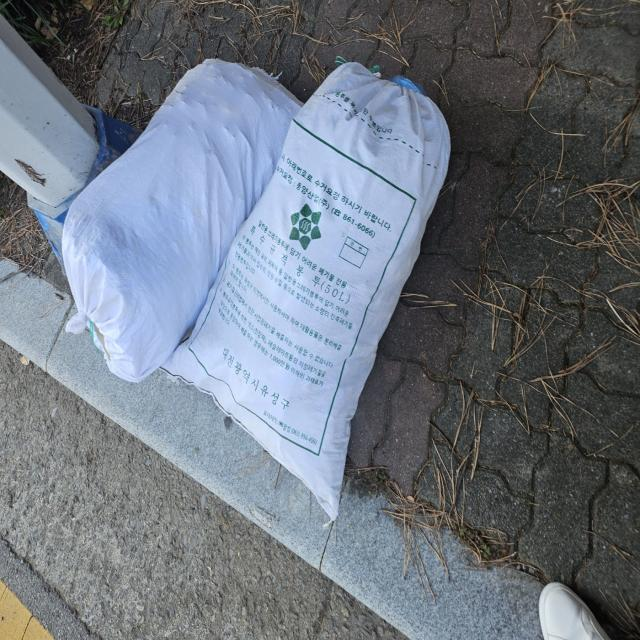PP bag: (46, 61, 451, 544), (180, 65, 456, 516), (43, 61, 293, 372)
